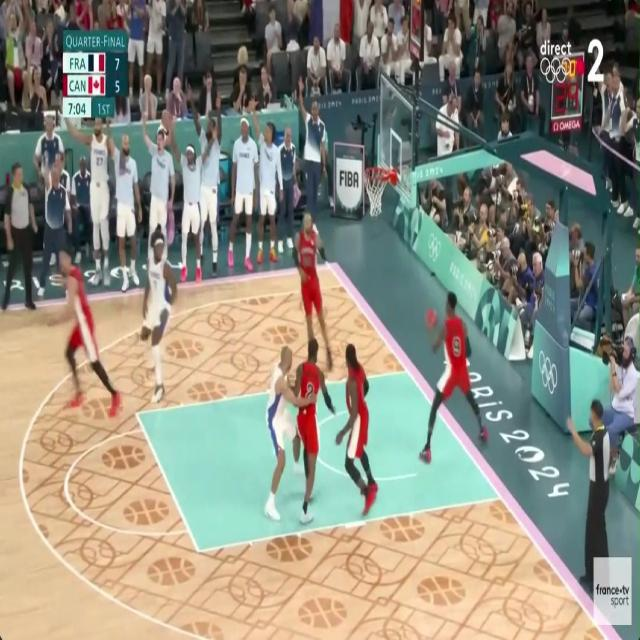ball_handler: (418, 283, 492, 476)
